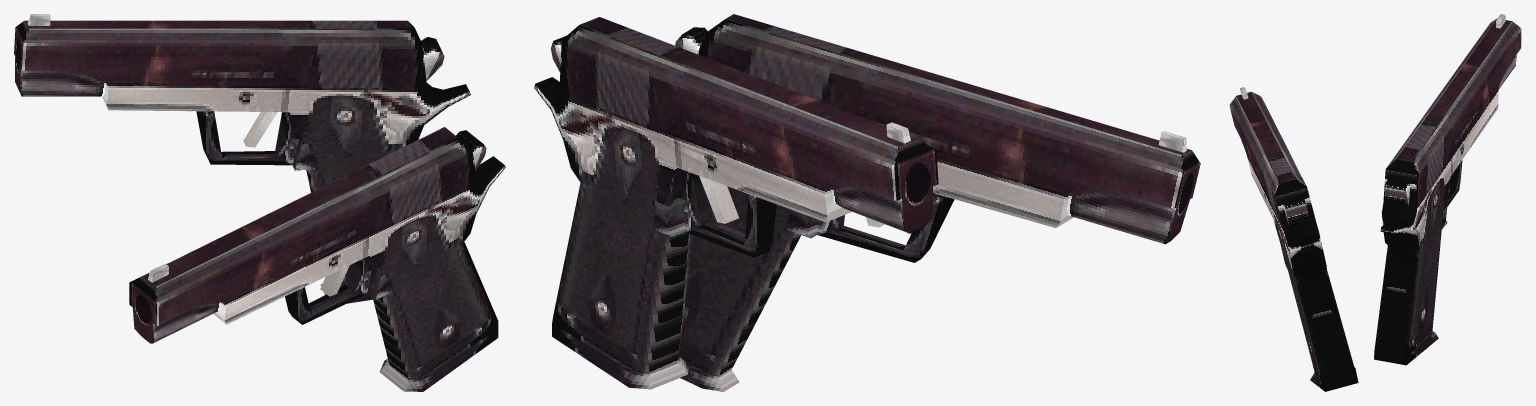
The model's file is ps2_save-icons_badboysmiamitakedown.glb.
3 views of the same model, side by side, from view 1: azimuth 30°, elevation 25°; view 2: azimuth 150°, elevation 25°; view 3: azimuth 270°, elevation 25° (orthographic). The views are drawn at different scales.
Parts seen in each view (by area): view 1: icon.icn; view 2: icon.icn; view 3: icon.icn.
Boxes of the visible parts, x1,y1,x2,y2 form: icon.icn: (14, 14, 505, 391); icon.icn: (534, 14, 1200, 391); icon.icn: (1229, 14, 1521, 391).
Bounding box in the file's own units: 2.94 × 2.31 × 2.29.
Materials: 1 (1 with a texture image).
